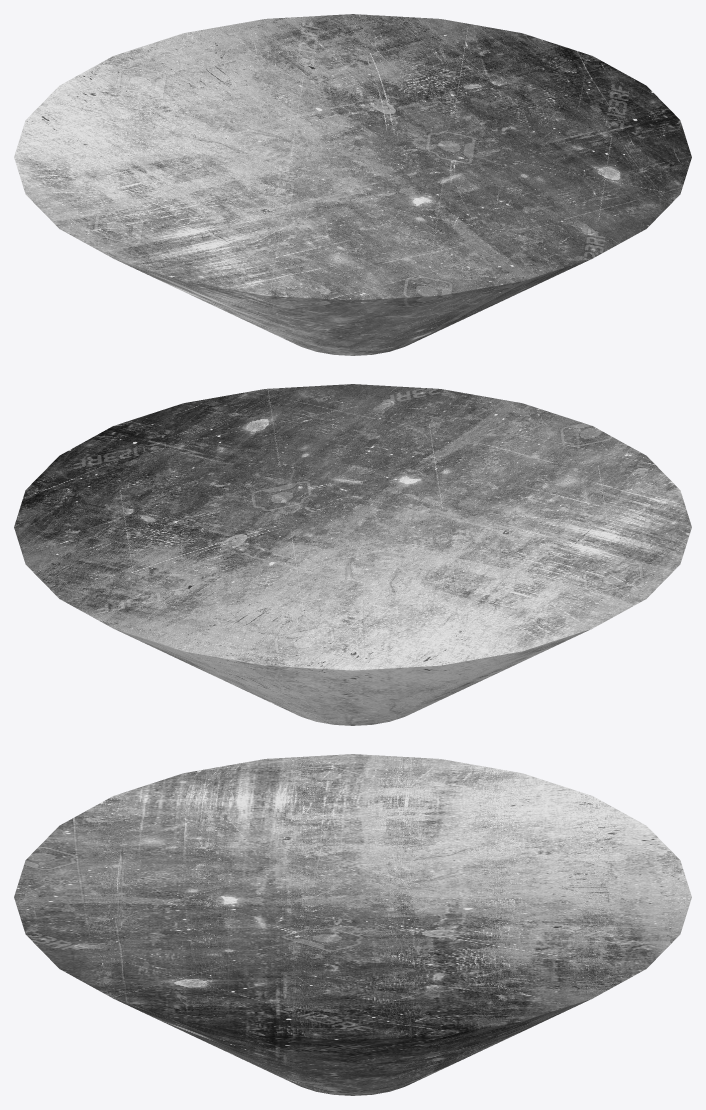
Rendered from selectBord.fbx.
3 renders of one model, top to bottom at view 1: azimuth 30°, elevation 25°; view 2: azimuth 150°, elevation 25°; view 3: azimuth 270°, elevation 25°, orthographic.
Visible parts, largest first — view 1: Cone001; view 2: Cone001; view 3: Cone001.
Part boxes in pixels (bbox=[...]): Cone001: bbox=[14, 14, 691, 355]; Cone001: bbox=[14, 384, 691, 725]; Cone001: bbox=[14, 754, 691, 1095].
Bounding box in the file's own units: 3335 × 3335 × 910.
